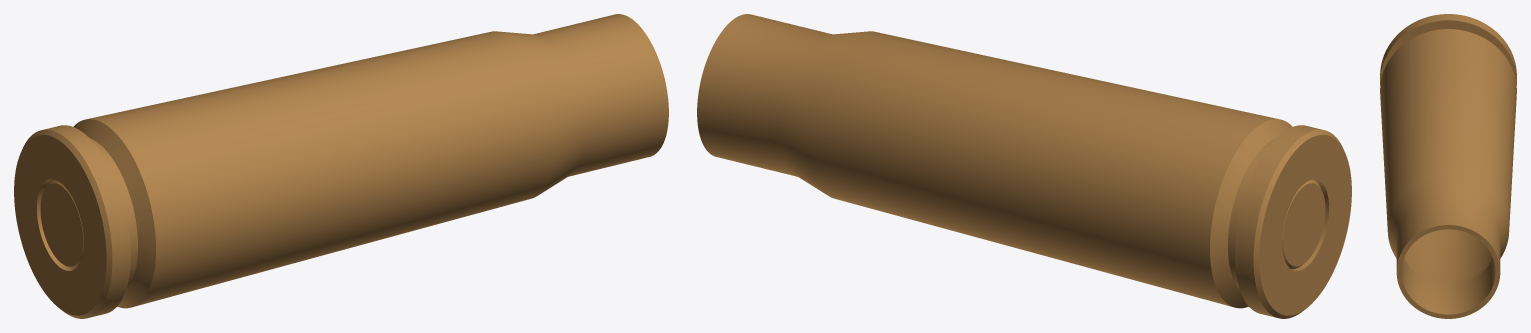
File: case_7_d_62x39.glb
3 views of the same model, side by side, from view 1: azimuth 30°, elevation 25°; view 2: azimuth 150°, elevation 25°; view 3: azimuth 270°, elevation 25° (orthographic). The views are drawn at different scales.
Visible parts, largest first — view 1: cartridge:cartridge-model; view 2: cartridge:cartridge-model; view 3: cartridge:cartridge-model.
Boxes of the visible parts, left/top/right/bottom form: cartridge:cartridge-model: left=14, top=14, right=668, bottom=318; cartridge:cartridge-model: left=697, top=14, right=1351, bottom=318; cartridge:cartridge-model: left=1380, top=14, right=1516, bottom=318.
Size of the model in its own units: 0.0387 by 0.0114 by 0.0114.
